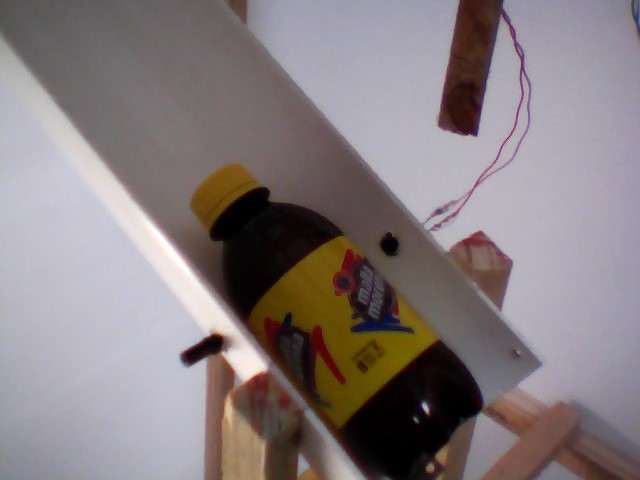plastico: (188, 163, 494, 480)
